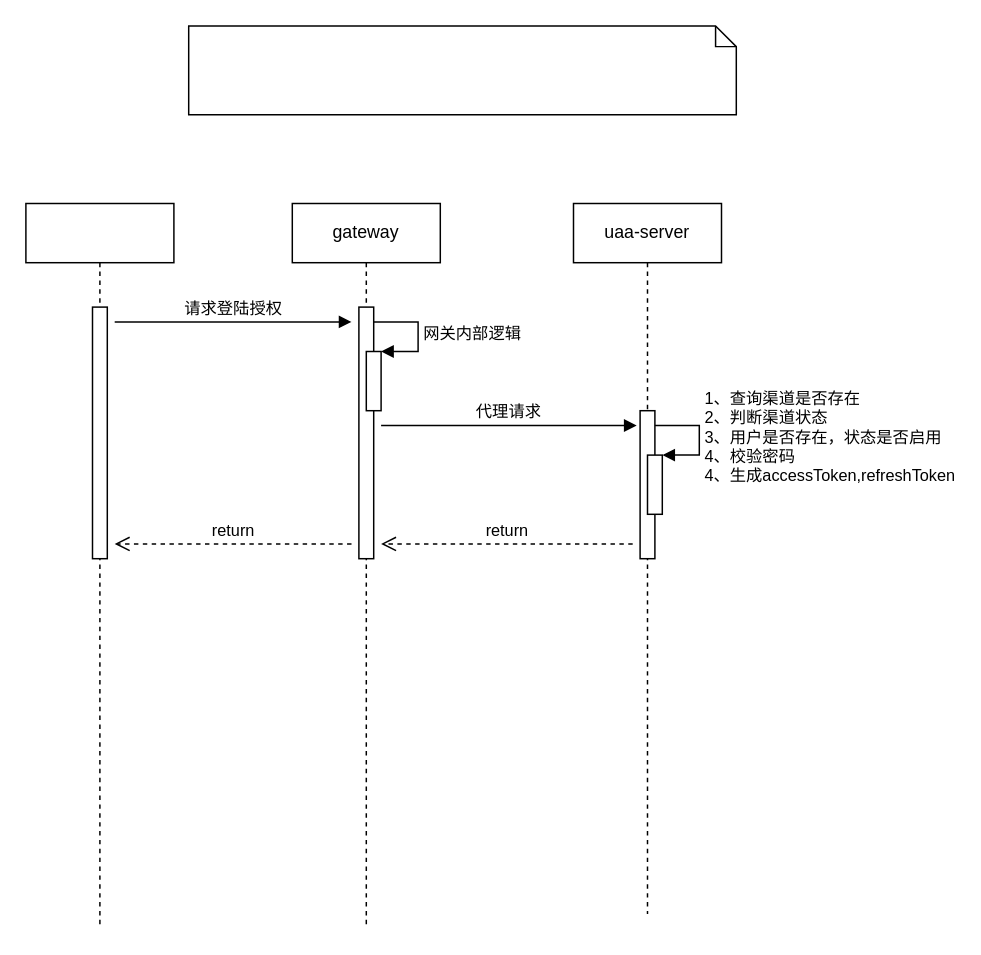
The diagram is 981 pixels wide and 955 high, and some of its shapes have lost their labels. Each missing label, with the box of its shape:
渠道: (24, 202, 174, 929)
登陆时序图 B端用户: (187, 24, 736, 115)
